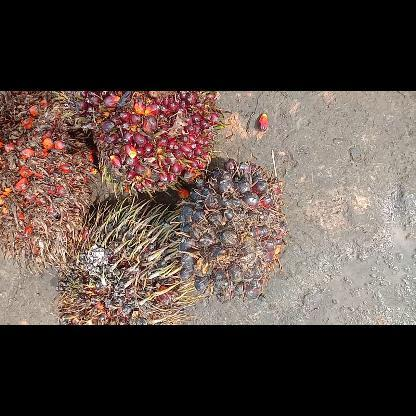TBS abnormal: (56, 198, 190, 324)
TBS masak: (87, 91, 220, 190)
TBS mentah: (176, 158, 288, 302)
Terlalu masak: (1, 91, 93, 273)
